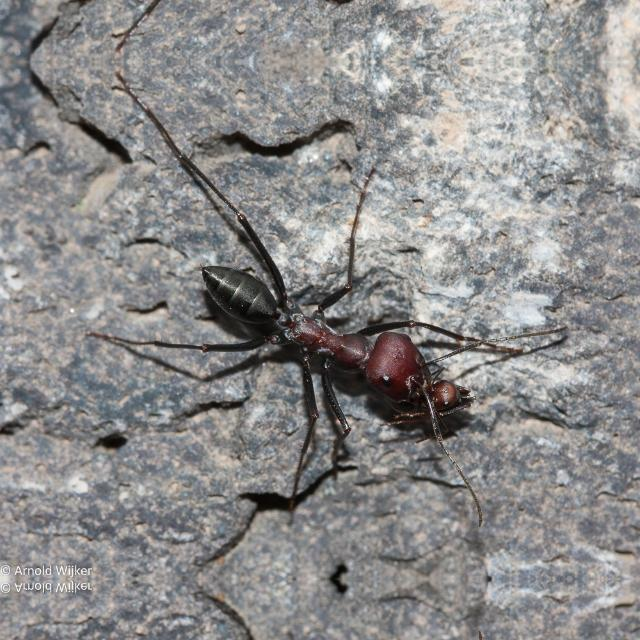Cataglyphis: (163, 229, 494, 433)
